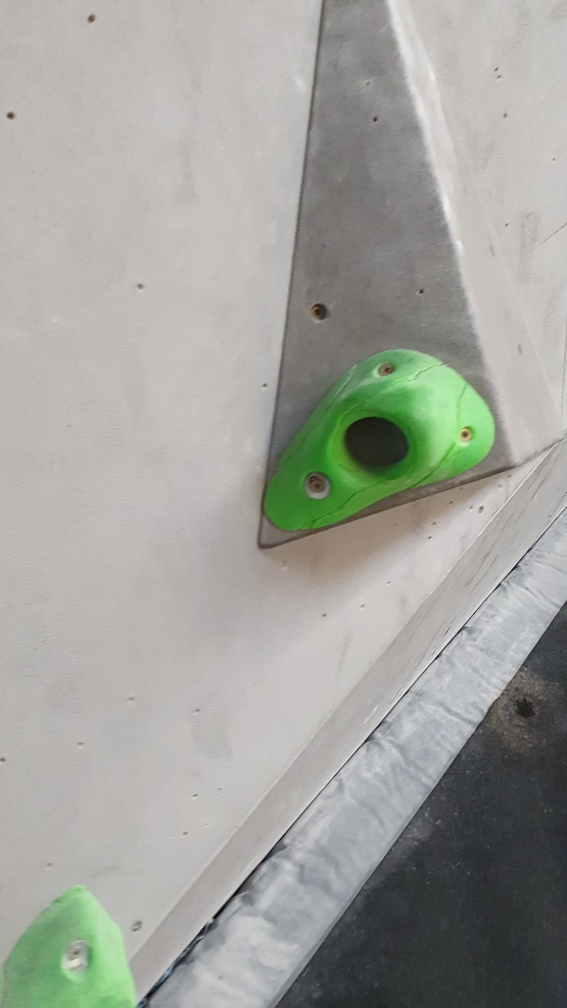Pocket: (265, 345, 495, 545)
